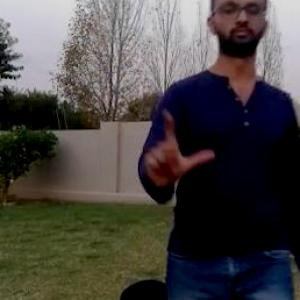land_hand: (140, 102, 218, 186)
